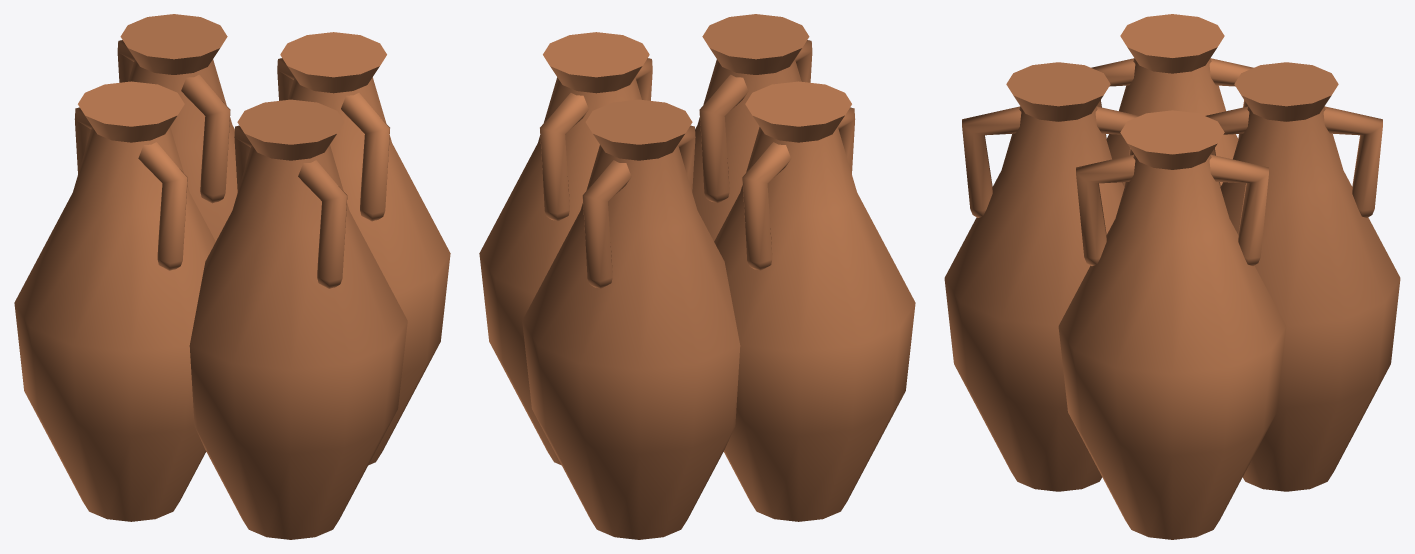
The model's file is amphorae_heap.fbx.
3 views of the same model, side by side, from view 1: azimuth 30°, elevation 25°; view 2: azimuth 150°, elevation 25°; view 3: azimuth 270°, elevation 25° (orthographic). The views are drawn at different scales.
Parts seen in each view (by area): view 1: amphorae_heap; view 2: amphorae_heap; view 3: amphorae_heap.
Part boxes in pixels (bbox=[...]): amphorae_heap: bbox=[14, 14, 450, 539]; amphorae_heap: bbox=[479, 14, 915, 539]; amphorae_heap: bbox=[944, 14, 1400, 539].
Size of the model in its own units: 0.096 by 0.09 by 0.096.
